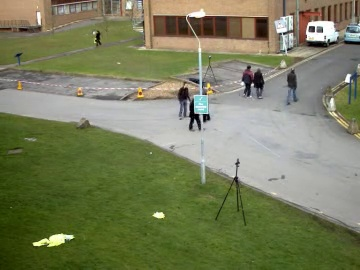person: (177, 83, 195, 125), (179, 85, 195, 128), (178, 83, 195, 123)
